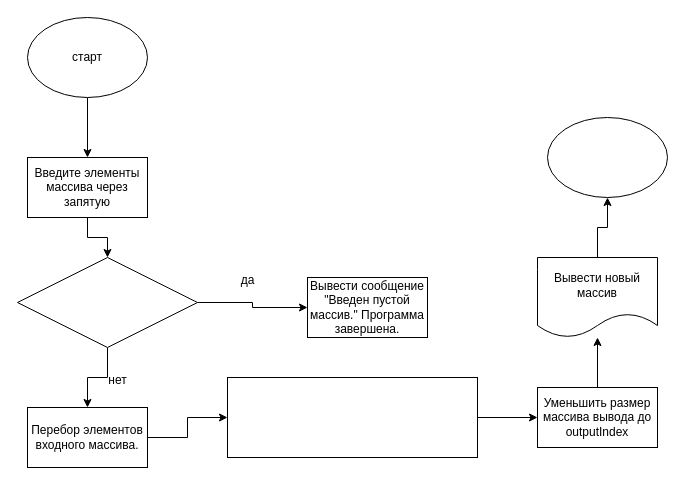
Some shapes in this 685 by 485 pixel diagram are drawn without their labels. Each missing label, with the box of its shape:
Выбрать элементы у которых длина текущей строки меньше или равна 3 символам: (226, 376, 478, 458)
конец: (546, 116, 668, 198)
Проверка на пустой ввод: (16, 256, 198, 348)
